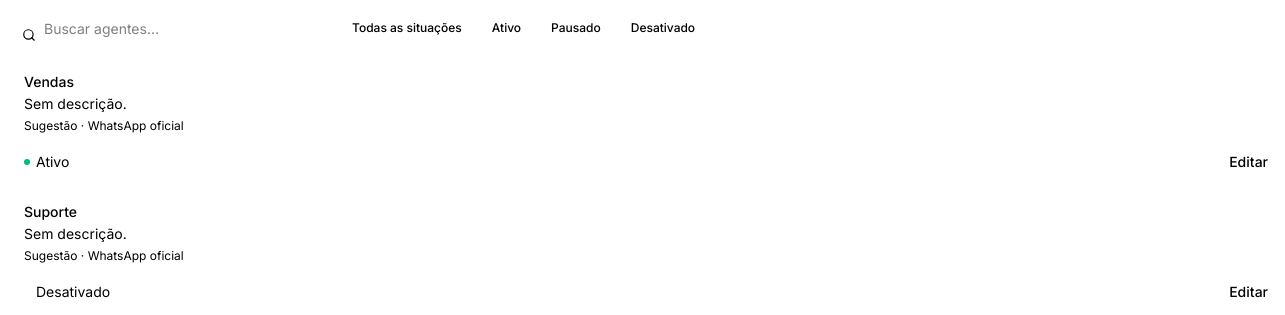
Scenario: AgentsList status pills › filters by status and marks the active pill as pressed
This screenshot has width=1285, height=315.
Click the button "Desativado" at (663, 28), box [619, 14, 707, 42]
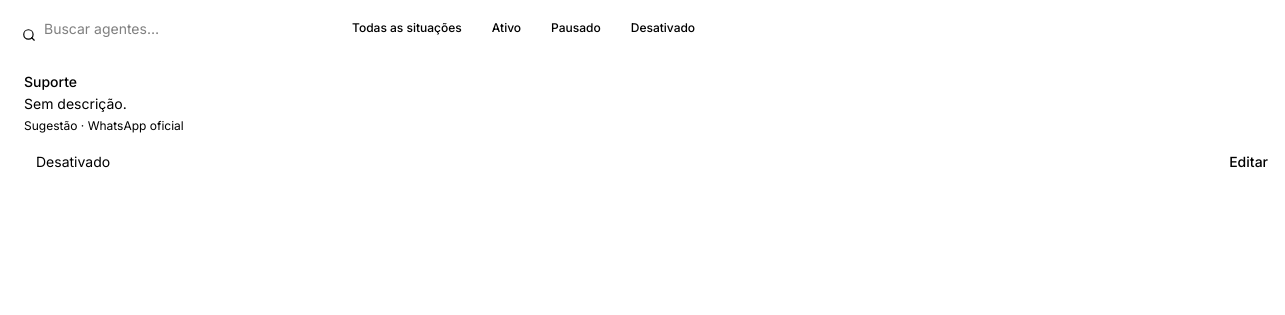
Expected: the link "Suporte" is shown, [24, 73, 77, 90]
Now the link "Vendas" is gone
